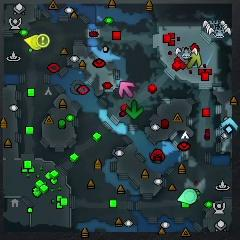p2: (178, 188, 198, 204)
p4: (23, 34, 44, 50)
x1: (118, 80, 136, 99)
x2: (186, 52, 202, 70)
x3: (220, 117, 238, 134)
x4: (126, 100, 143, 119)
